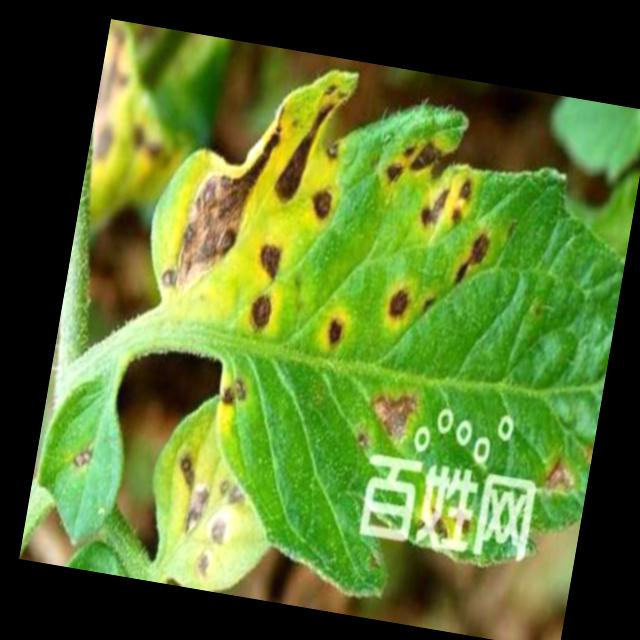Early_blight: (158, 83, 288, 307), (270, 77, 350, 208), (379, 129, 462, 200), (163, 450, 215, 537), (411, 171, 474, 239), (363, 383, 424, 445), (448, 224, 495, 292), (413, 502, 474, 544), (303, 177, 346, 230), (248, 232, 289, 285), (379, 277, 413, 330), (540, 455, 581, 497), (240, 291, 279, 335), (214, 369, 250, 413), (202, 506, 234, 548), (191, 546, 218, 582), (324, 317, 347, 348), (68, 447, 94, 468)
